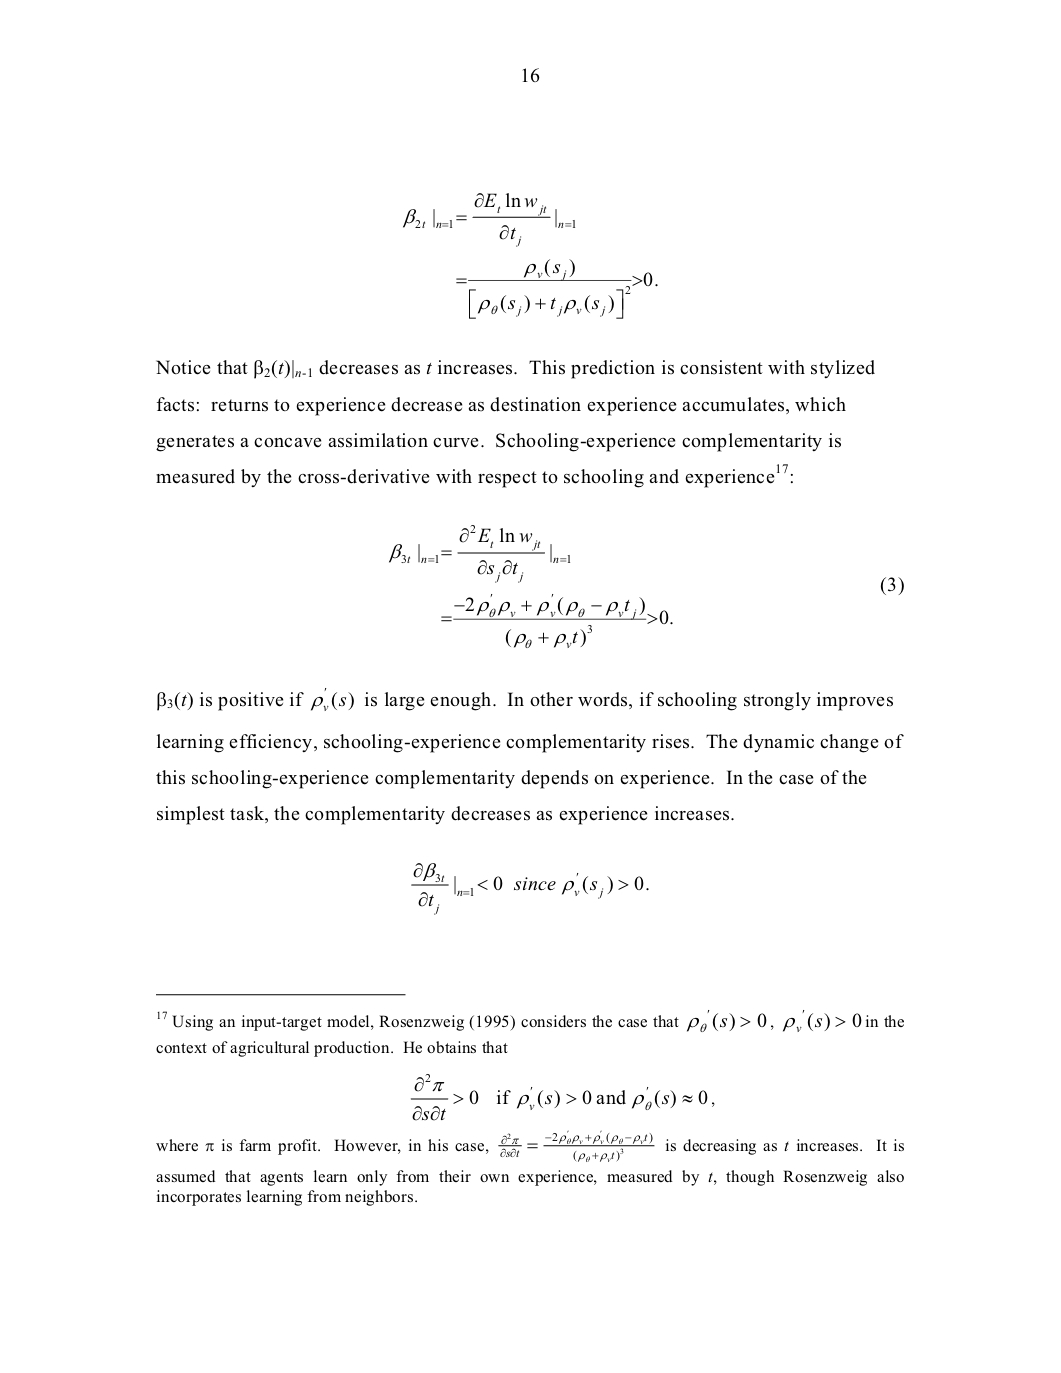formula: (388, 524, 903, 649), (410, 1072, 714, 1121), (411, 861, 648, 915), (456, 259, 658, 319), (402, 192, 575, 247)
